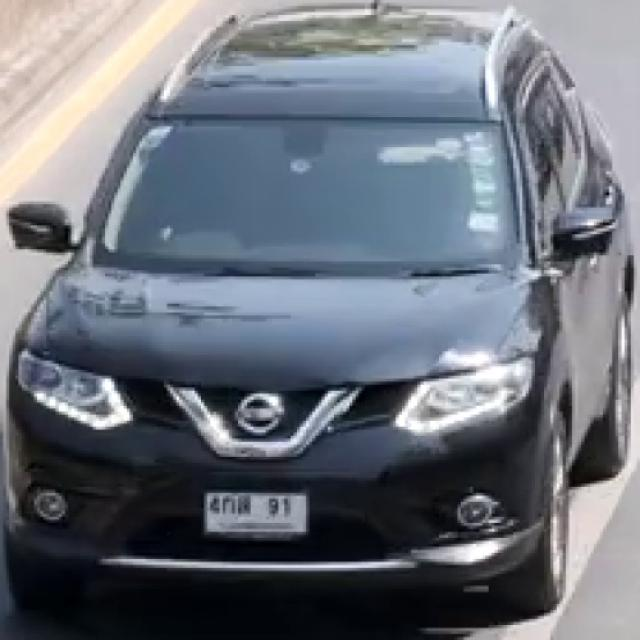plate: (205, 490, 306, 534)
